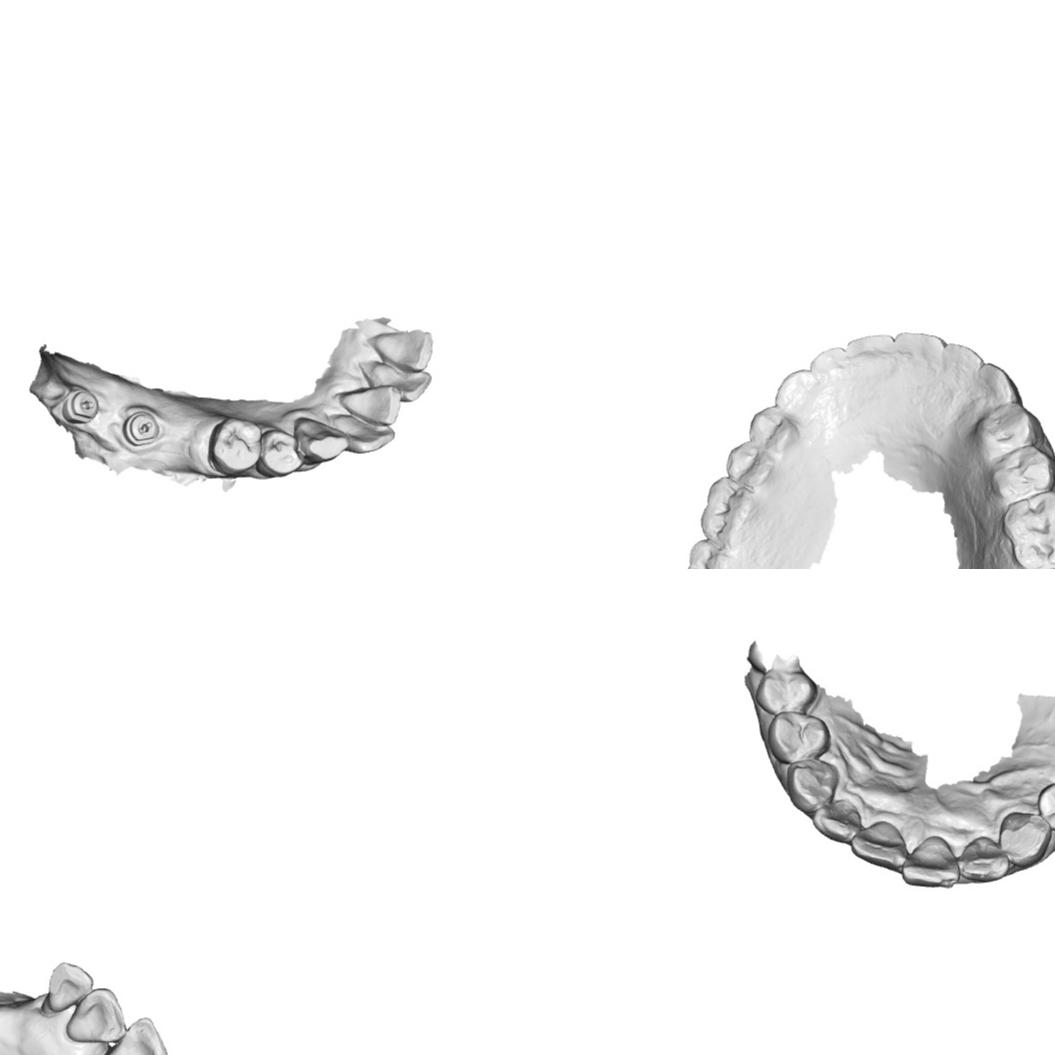canine: (997, 810, 1053, 869), (786, 757, 839, 814), (294, 416, 350, 466), (773, 368, 824, 419), (976, 361, 1023, 405)
implant_minus: (62, 388, 100, 426), (123, 410, 160, 447)
incisor: (64, 986, 128, 1044), (901, 834, 963, 889), (848, 818, 905, 870), (338, 383, 404, 426), (370, 330, 434, 374), (102, 1015, 169, 1055), (46, 960, 94, 1014), (956, 834, 1010, 882), (368, 363, 433, 402), (334, 414, 396, 454), (811, 797, 861, 844), (844, 331, 895, 368), (894, 329, 946, 362), (941, 340, 984, 379), (808, 345, 846, 386)
molar: (1000, 490, 1055, 569), (695, 474, 759, 539), (681, 537, 744, 569)
premolar: (971, 398, 1046, 460), (988, 442, 1055, 503), (764, 709, 831, 764), (208, 415, 262, 477), (752, 670, 820, 716), (746, 405, 802, 456), (724, 439, 776, 488), (258, 428, 304, 478), (1034, 780, 1055, 836)
